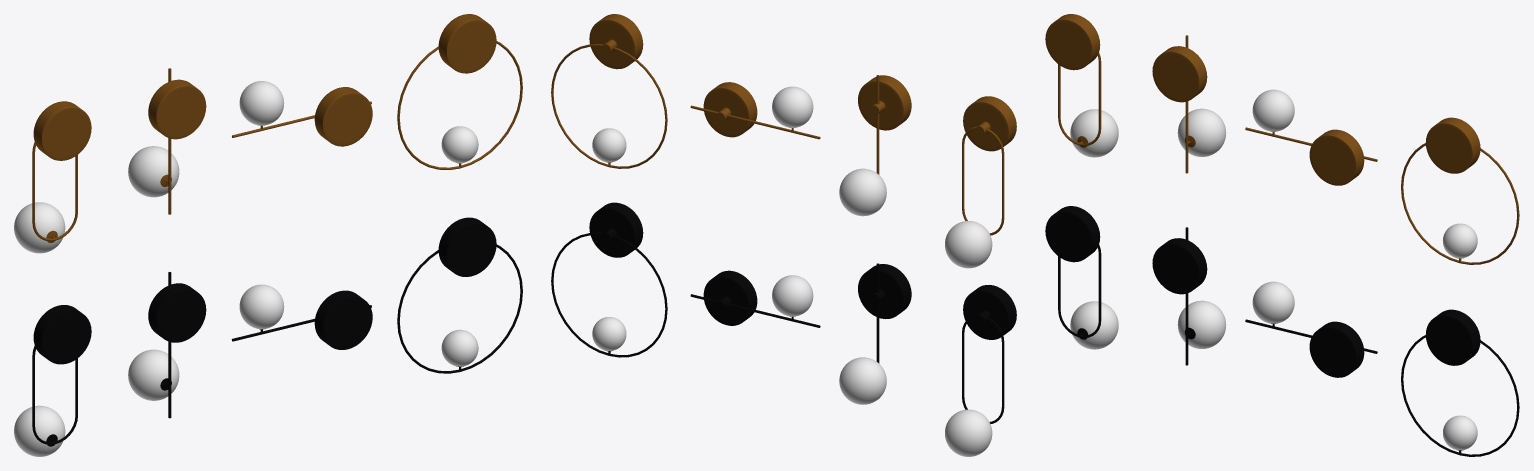
Rendered from LAMPS.FBX.
The picture shows the model from 3 angles, left to right: view 1: azimuth 30°, elevation 25°; view 2: azimuth 150°, elevation 25°; view 3: azimuth 330°, elevation 25°; orthographic projection. The views are drawn at different scales.
Parts seen in each view (by area): view 1: lamp frame006, lamp frame1, lamp frame4, lamp frame008, lamp frame007, lamp frame3, lamp frame5, lamp frame009, light bulb007, light bulb3, light bulb4, light bulb008 (+4 smaller); view 2: lamp frame1, lamp frame006, lamp frame4, lamp frame008, lamp frame009, lamp frame5, lamp frame007, lamp frame3, light bulb007, light bulb3, light bulb4, light bulb008 (+4 smaller); view 3: lamp frame006, lamp frame1, lamp frame4, lamp frame008, lamp frame3, lamp frame007, lamp frame5, lamp frame009, light bulb3, light bulb007, light bulb4, light bulb008 (+4 smaller).
Part boxes in pixels (<box>): lamp frame006: <box>397,14,522,169</box>; lamp frame1: <box>397,217,522,373</box>; lamp frame4: <box>32,305,91,446</box>; lamp frame008: <box>32,101,91,242</box>; lamp frame007: <box>148,68,206,214</box>; lamp frame3: <box>148,272,206,418</box>; lamp frame5: <box>231,290,372,349</box>; lamp frame009: <box>232,87,372,146</box>; light bulb007: <box>128,146,179,197</box>; light bulb3: <box>128,349,179,400</box>; light bulb4: <box>14,405,65,456</box>; light bulb008: <box>14,202,65,253</box>; lamp frame1: <box>551,202,667,357</box>; lamp frame006: <box>551,14,667,168</box>; lamp frame4: <box>962,285,1016,423</box>; lamp frame008: <box>962,96,1016,235</box>; lamp frame009: <box>690,82,820,139</box>; lamp frame5: <box>690,270,820,327</box>; lamp frame007: <box>858,75,911,174</box>; lamp frame3: <box>858,263,911,363</box>; light bulb007: <box>839,168,886,216</box>; light bulb3: <box>839,357,886,404</box>; light bulb4: <box>945,409,992,456</box>; light bulb008: <box>945,221,992,268</box>; lamp frame006: <box>1401,117,1519,264</box>; lamp frame1: <box>1401,309,1519,456</box>; lamp frame4: <box>1045,206,1101,339</box>; lamp frame008: <box>1045,14,1101,147</box>; lamp frame3: <box>1152,227,1207,365</box>; lamp frame007: <box>1152,35,1207,173</box>; lamp frame5: <box>1245,319,1377,377</box>; lamp frame009: <box>1245,127,1377,185</box>; light bulb3: <box>1177,300,1225,348</box>; light bulb007: <box>1177,108,1225,156</box>; light bulb4: <box>1070,301,1118,349</box>; light bulb008: <box>1070,109,1118,157</box>.
Size of the model in its own units: 177 by 129 by 25.49.
